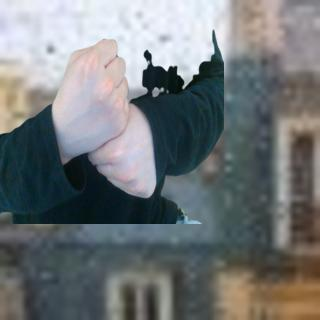CAREFUL: (47, 31, 157, 208)
